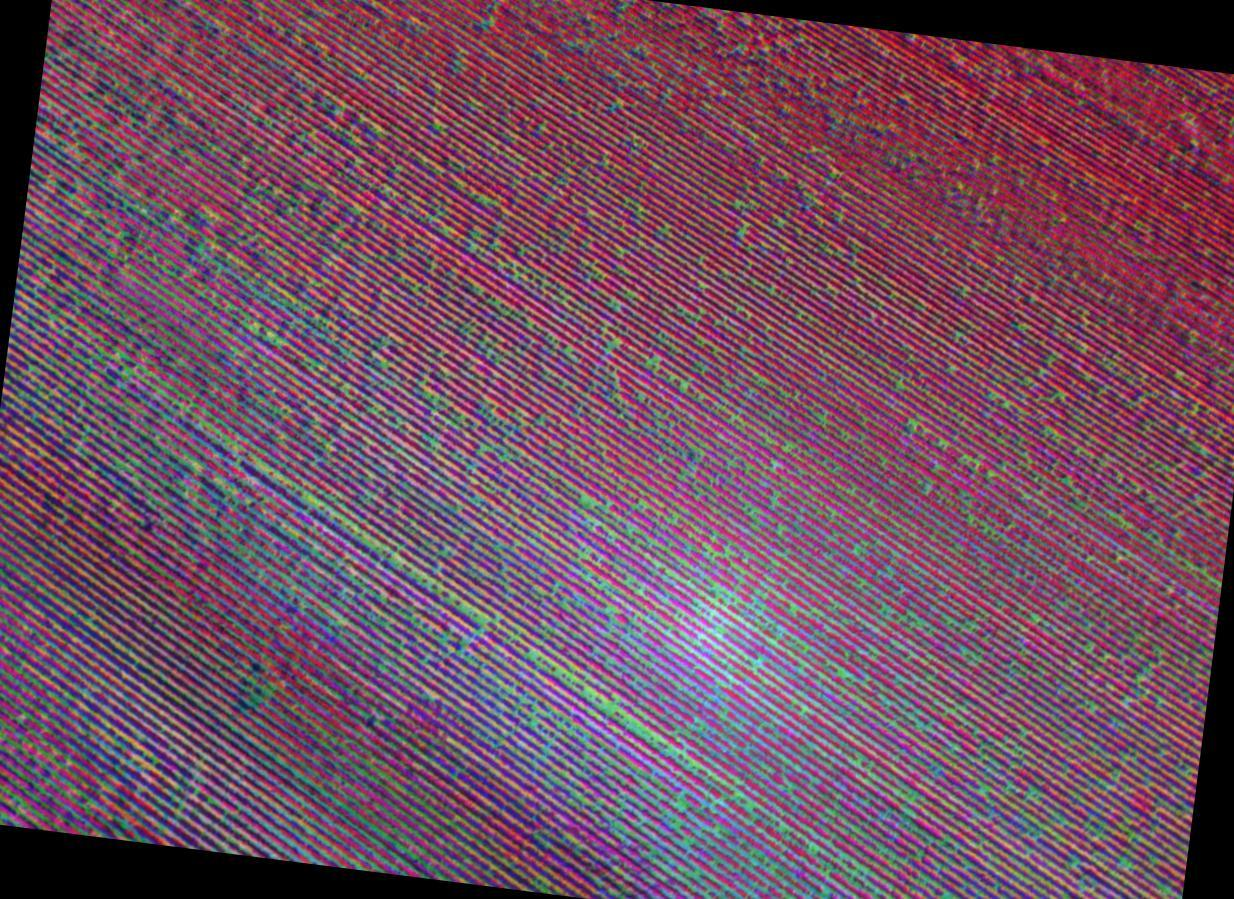dc: (213, 485, 325, 603), (676, 548, 779, 674), (51, 360, 150, 476), (388, 605, 485, 716), (558, 710, 666, 808)
